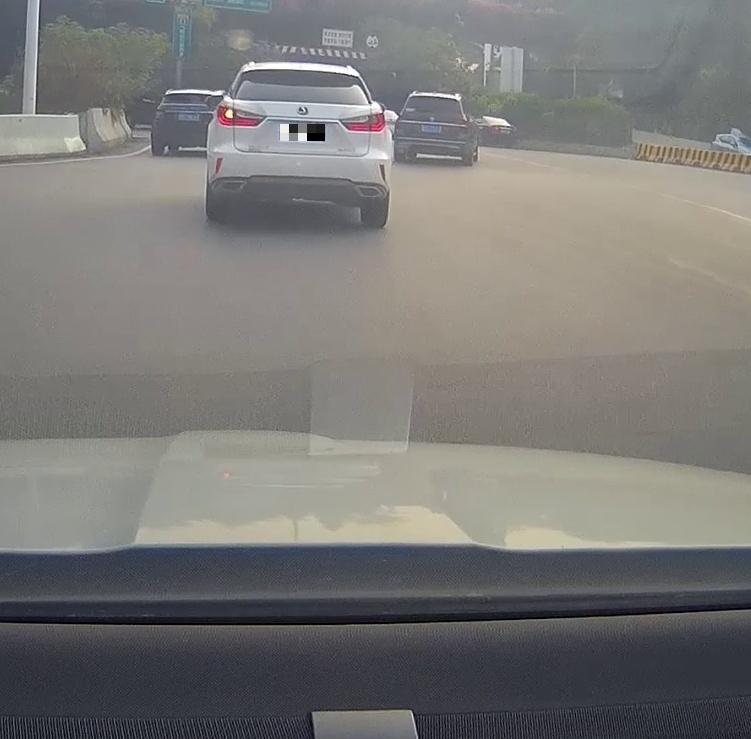L_light: (217, 105, 266, 127), (398, 117, 408, 122)
R_light: (339, 112, 385, 132), (457, 120, 467, 126)
T_light: (293, 71, 313, 76), (430, 98, 440, 100)
day-left: (206, 64, 391, 229)
day-no: (394, 94, 472, 166)
plate_1: (280, 124, 325, 141)
